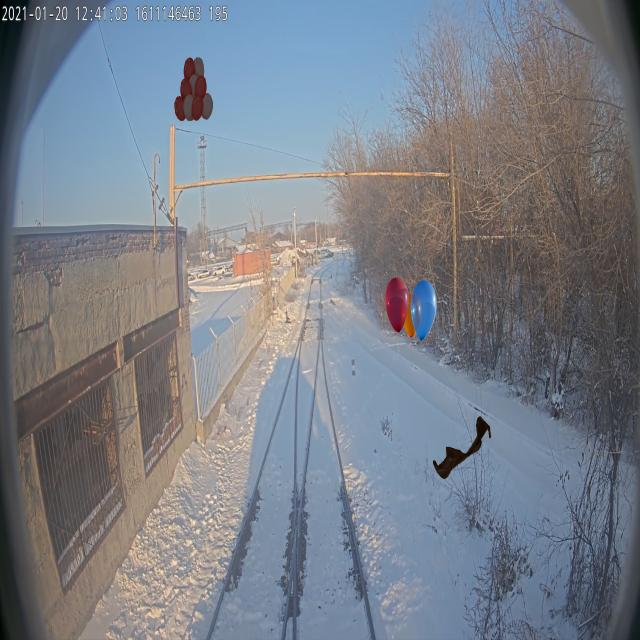balloon: (385, 276, 437, 340), (174, 57, 213, 121)
floating object: (433, 416, 491, 480)
